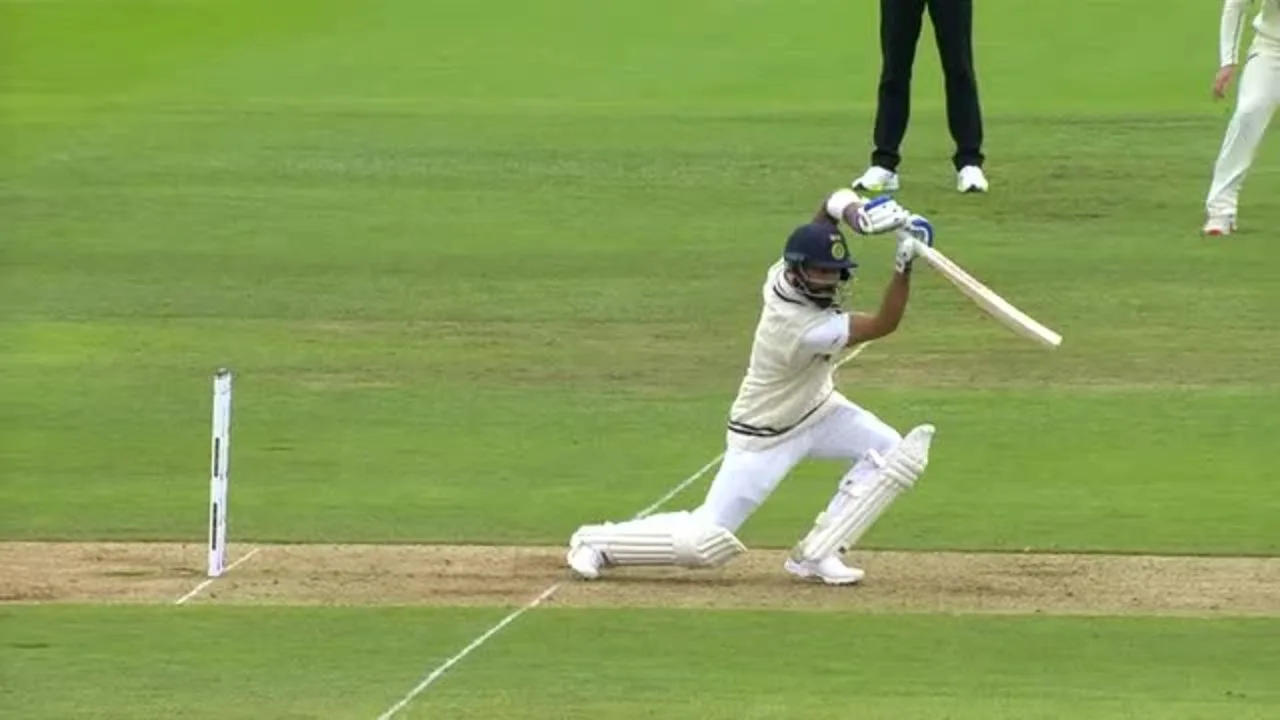Defence: (173, 0, 1232, 719)
